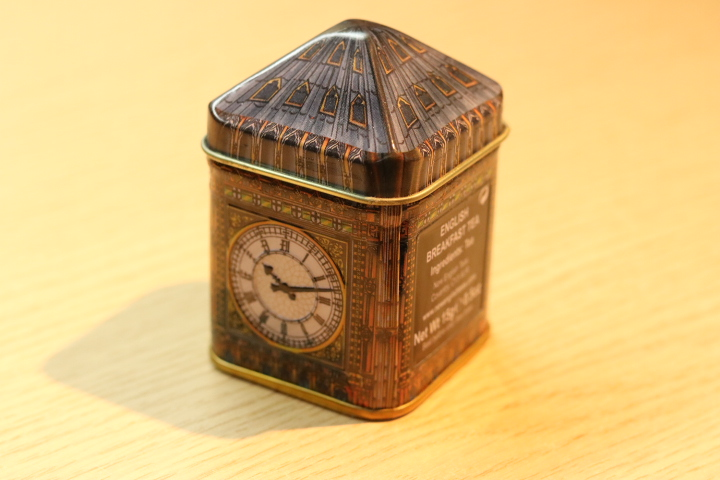Big Ben: (193, 10, 522, 436)
